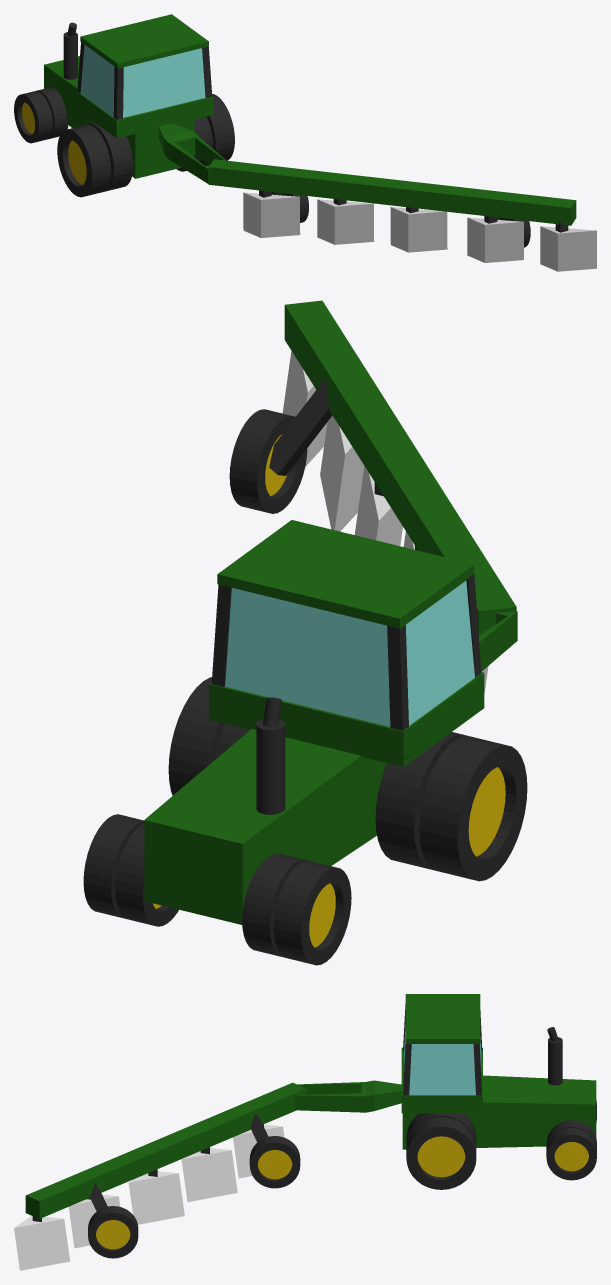
File: plow.gltf
3 renders of one model, top to bottom at view 1: azimuth 30°, elevation 25°; view 2: azimuth 150°, elevation 25°; view 3: azimuth 270°, elevation 25°, orthographic. The views are drawn at different scales.
Parts seen in each view (by area): view 1: Cube, Cube.025, Cube.026, Tire.007, Cube.024, Cube.023, Cube.003, Cube.001, Cube.002, Cube.004, Cube.005, Cube.022 (+8 smaller); view 2: Cube.024, Cube.025, Cube, Cube.026, Tire.007, Cube.023, Tire.011, Tire.002, Tire.006, Tire.004, Cube.004, Tire.008 (+9 smaller); view 3: Cube, Cube.024, Tire.004, Cube.026, Cube.025, Cube.022, Cube.005, Cube.002, Cube.003, Tire.001, Tire.002, Tire.008 (+6 smaller).
Part boxes in pixels (<box>): Cube: <box>208,159,576,225</box>; Cube.025: <box>80,45,205,117</box>; Cube.026: <box>80,14,208,68</box>; Tire.007: <box>57,124,111,197</box>; Cube.024: <box>44,56,194,178</box>; Cube.023: <box>76,91,213,138</box>; Cube.003: <box>390,207,447,252</box>; Cube.001: <box>243,192,300,237</box>; Cube.002: <box>317,199,373,244</box>; Cube.004: <box>467,217,523,262</box>; Cube.005: <box>540,226,596,271</box>; Cube.022: <box>158,123,225,183</box>; Cube.024: <box>144,729,386,924</box>; Cube.025: <box>225,580,474,726</box>; Cube: <box>284,300,516,642</box>; Cube.026: <box>217,520,474,628</box>; Tire.007: <box>419,735,527,881</box>; Cube.023: <box>209,672,484,766</box>; Tire.011: <box>273,860,351,965</box>; Tire.002: <box>229,409,307,513</box>; Tire.006: <box>375,732,466,870</box>; Tire.004: <box>168,677,224,795</box>; Cube.004: <box>320,415,364,531</box>; Tire.008: <box>83,814,144,918</box>; Cube: <box>25,1082,306,1218</box>; Cube.024: <box>402,1075,596,1149</box>; Tire.004: <box>406,1117,476,1189</box>; Cube.026: <box>405,994,480,1043</box>; Cube.025: <box>404,1024,481,1095</box>; Cube.022: <box>295,1080,401,1112</box>; Cube.005: <box>14,1215,70,1270</box>; Cube.002: <box>181,1148,237,1202</box>; Cube.003: <box>128,1171,184,1224</box>; Tire.001: <box>249,1136,300,1188</box>; Tire.002: <box>88,1206,138,1258</box>; Tire.008: <box>546,1128,596,1180</box>.
Size of the model in its own units: 13.21 by 5.67 by 21.14.
